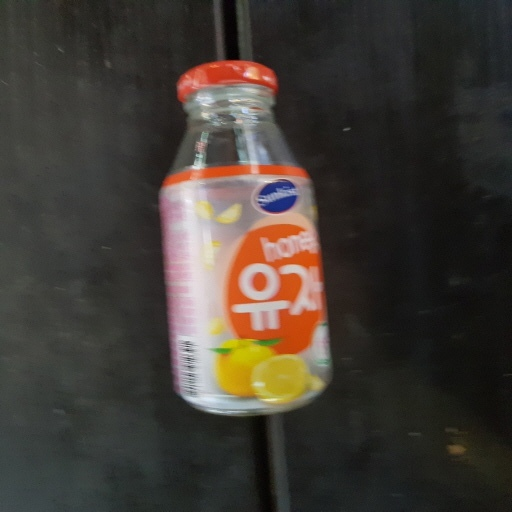Glass_4: (155, 61, 333, 421)
